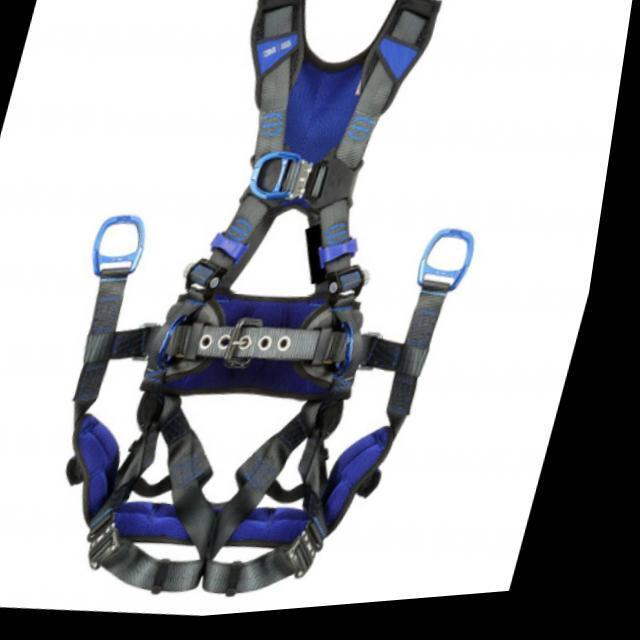Harness: (66, 0, 475, 596)
